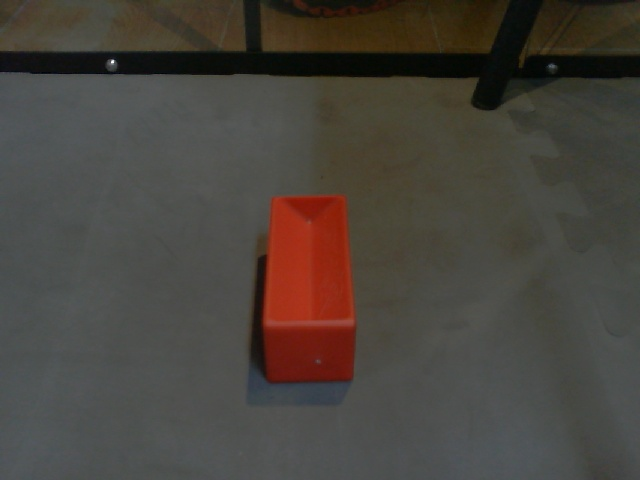RedSample: (258, 194, 359, 383)
